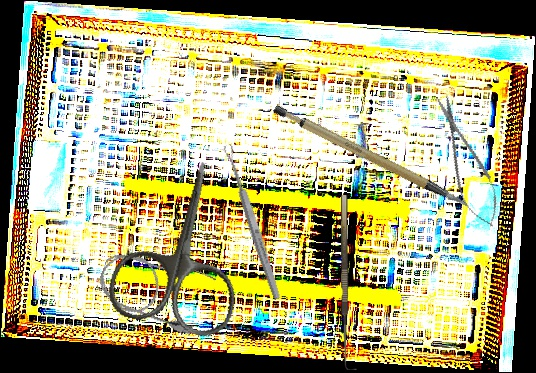Cannula: (91, 236, 219, 338)
Hook Surgical: (341, 195, 357, 370)
Iris Scissors: (102, 147, 267, 342)
Micro Scissor: (424, 88, 509, 234)
Scalpel Handle: (270, 80, 471, 238)
Surgical Spoon: (222, 143, 283, 301)
